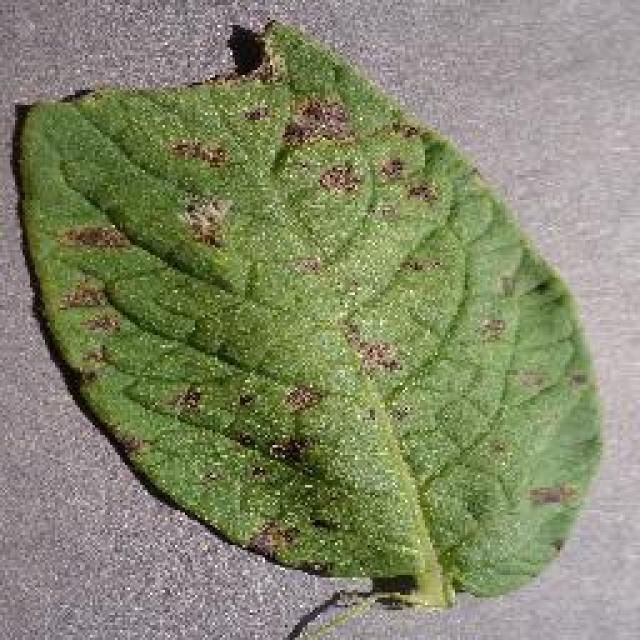early_blight: (8, 15, 608, 617)
